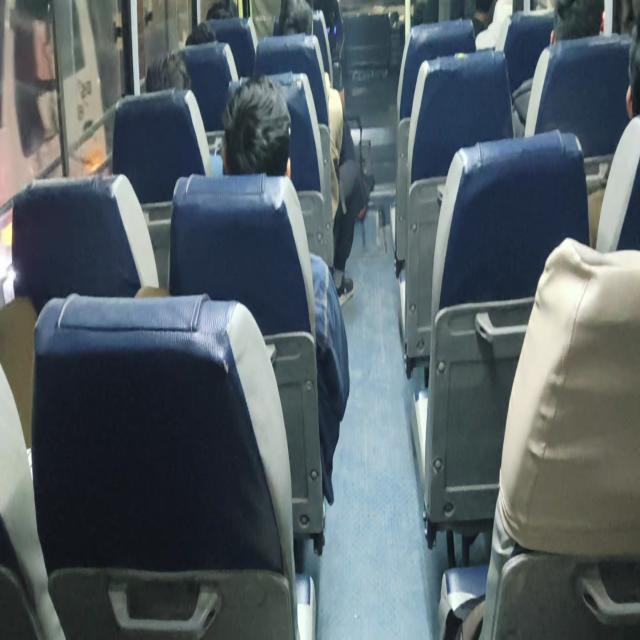person: (228, 77, 288, 160), (136, 59, 203, 124), (541, 2, 604, 47), (619, 31, 640, 123), (276, 0, 320, 36), (183, 12, 225, 43)
